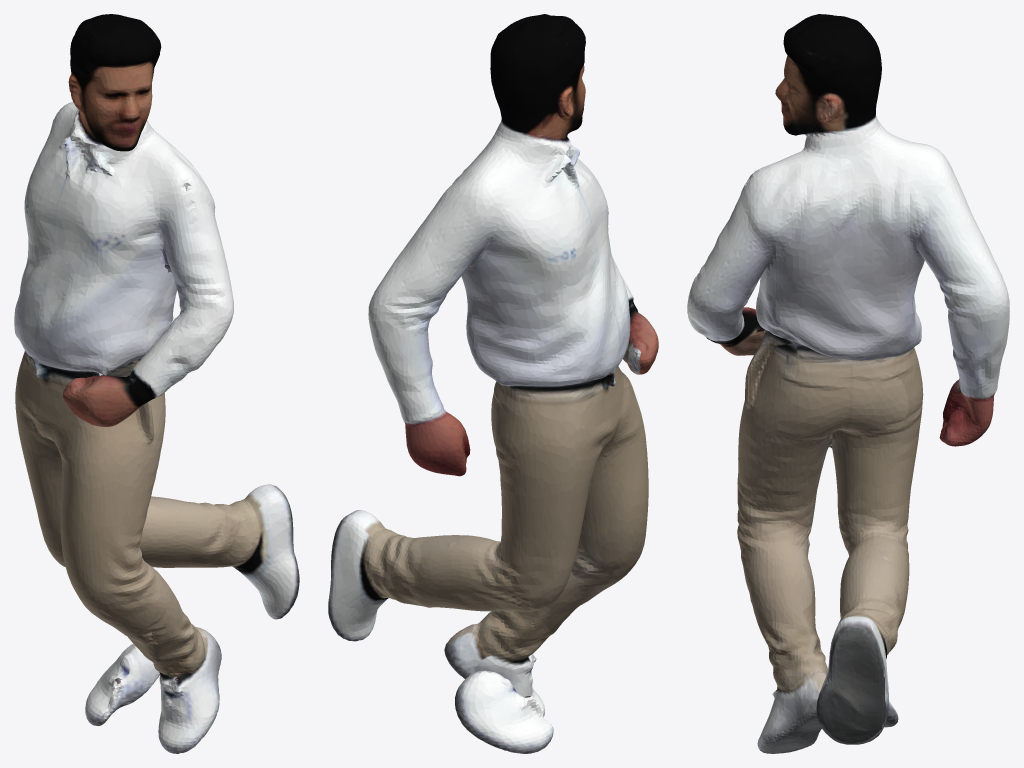
The model's file is jump_3.glb.
3 renders of one model, left to right at view 1: azimuth 30°, elevation 25°; view 2: azimuth 150°, elevation 25°; view 3: azimuth 270°, elevation 25°, orthographic.
Visible parts, largest first — view 1: tmprwvycc9s.ply; view 2: tmprwvycc9s.ply; view 3: tmprwvycc9s.ply.
Part boxes in pixels (box(x1,y1,x2,y2)): tmprwvycc9s.ply: box(14, 14, 299, 753); tmprwvycc9s.ply: box(328, 14, 658, 753); tmprwvycc9s.ply: box(687, 14, 1009, 753).
Bounding box in the file's own units: 0.7622 × 1.99 × 0.8131.
1 material, 1 textured.
